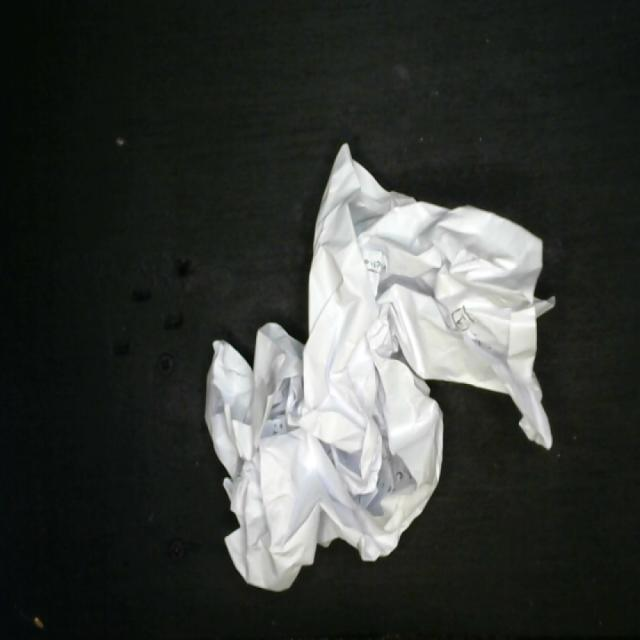biodegradable: (201, 140, 564, 597)
